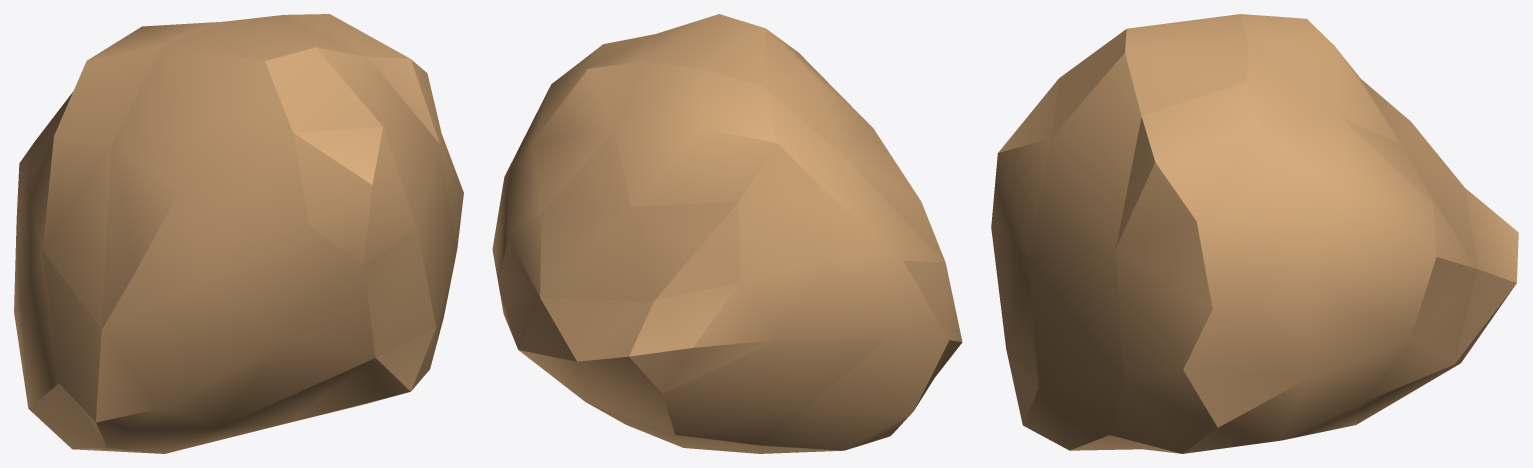
Rendered from Rock_3_K_Sand.glb.
The picture shows the model from 3 angles, left to right: view 1: azimuth 30°, elevation 25°; view 2: azimuth 150°, elevation 25°; view 3: azimuth 270°, elevation 25°; orthographic projection. The views are drawn at different scales.
Parts seen in each view (by area): view 1: Rock_3_K_Color1; view 2: Rock_3_K_Color1; view 3: Rock_3_K_Color1.
Part boxes in pixels (x1,y1,x2,y2): Rock_3_K_Color1: [14, 14, 463, 453]; Rock_3_K_Color1: [492, 14, 962, 453]; Rock_3_K_Color1: [991, 14, 1518, 453].
Size of the model in its own units: 2.61 by 2.22 by 2.59.
Materials: 1 (1 with a texture image).
